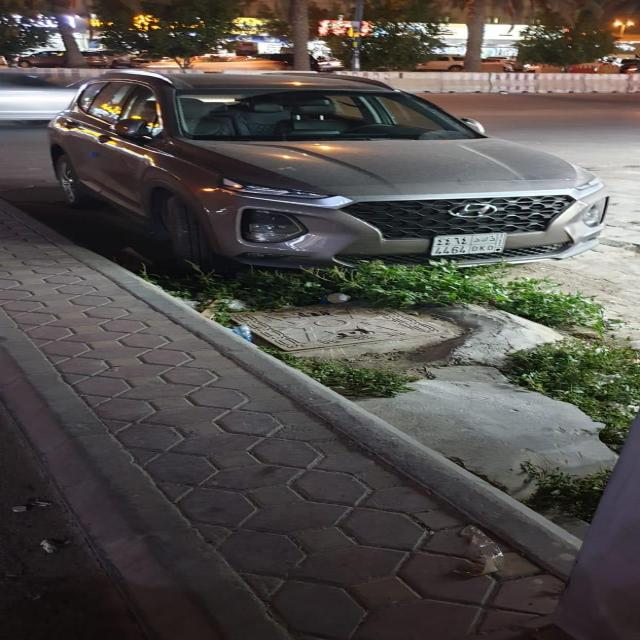license_plate: (429, 232, 505, 256)
